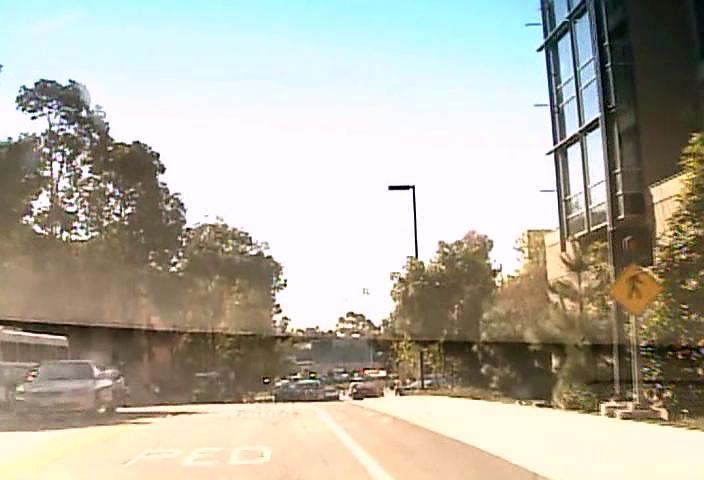pedestrianCrossing: (607, 261, 664, 316)
